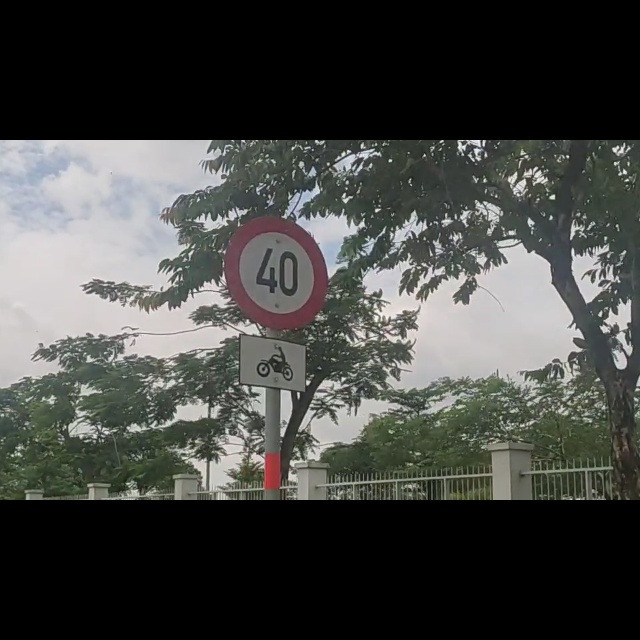Tốc độ tối đa cho phép 40km/h: (221, 215, 328, 331)
